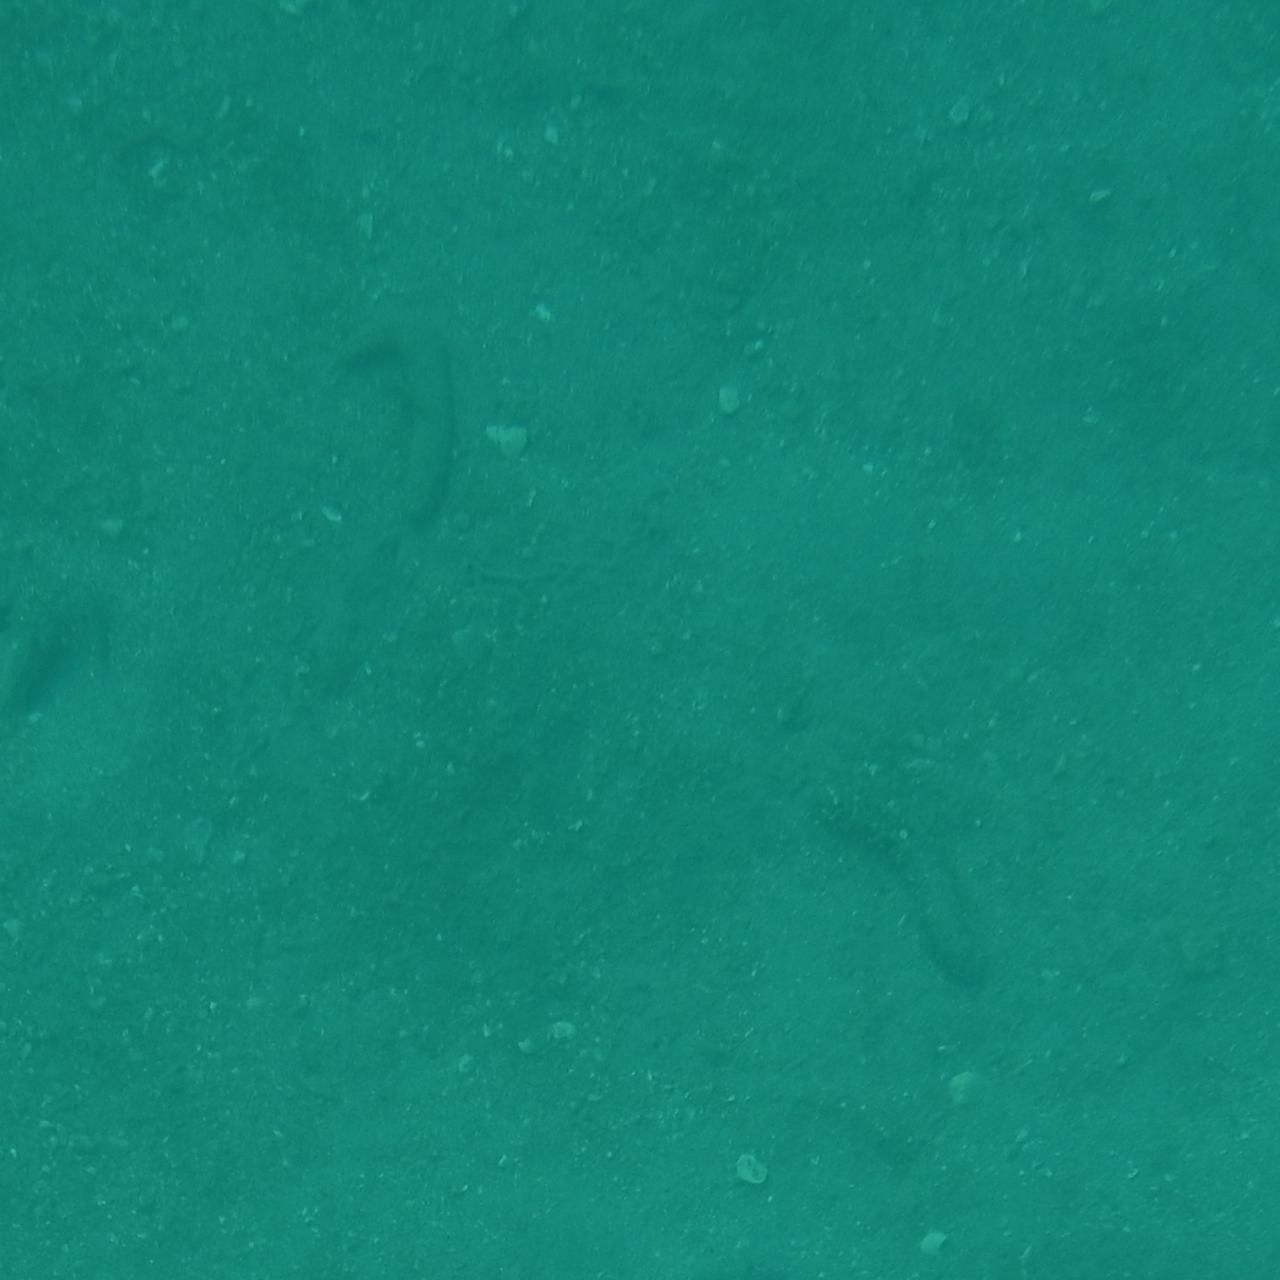Holothuria tubulosa: (772, 748, 985, 999), (331, 287, 471, 529)
